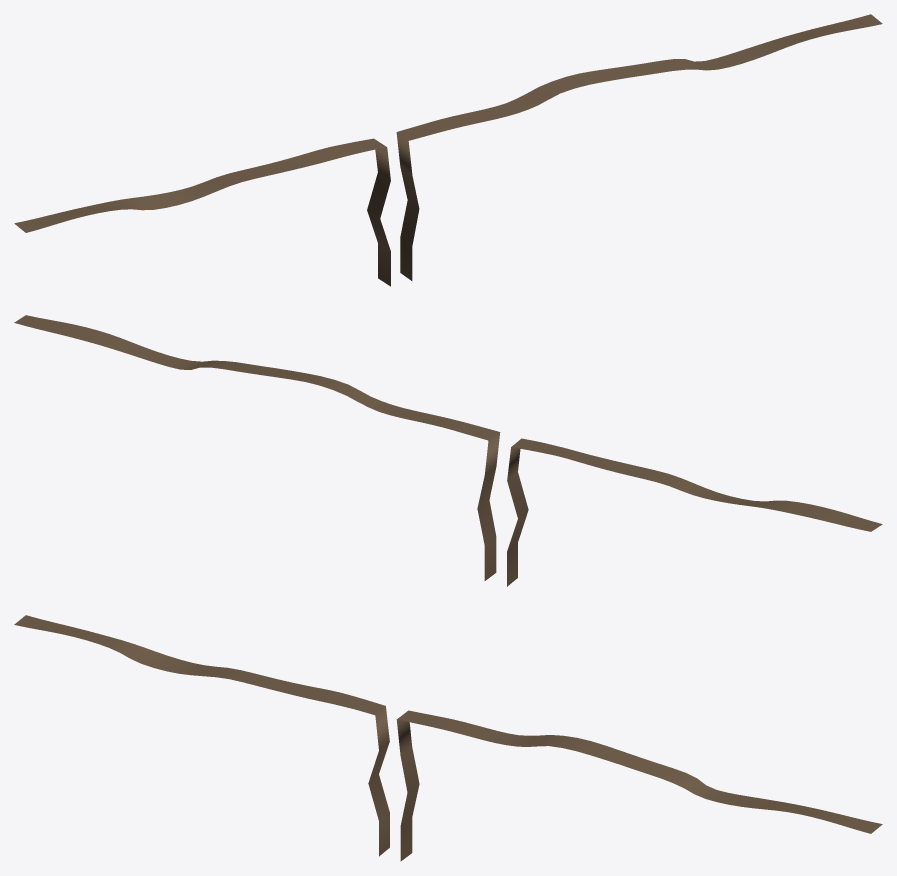
File: desert_part3_way.fbx
3 renders of one model, top to bottom at view 1: azimuth 30°, elevation 25°; view 2: azimuth 150°, elevation 25°; view 3: azimuth 330°, elevation 25°, orthographic.
Parts seen in each view (by area): view 1: Grid.007; view 2: Grid.007; view 3: Grid.007.
Part boxes in pixels (x1,y1,x2,y2): Grid.007: (14,14,882,286); Grid.007: (14,315,882,586); Grid.007: (14,615,882,861).
Bounding box in the file's own units: 5969 × 1036 × 144.
